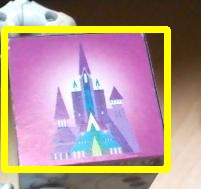Castle4: (4, 29, 167, 169)
